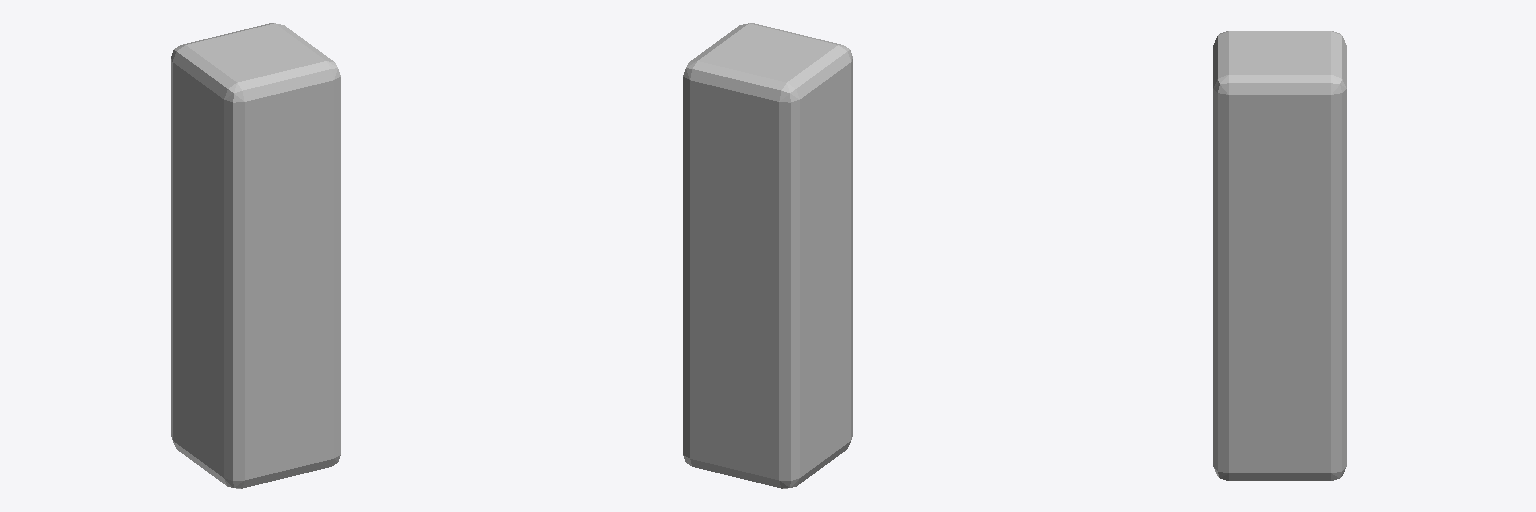
The model's file is IGNORE_Porch_Peg.obj.
The picture shows the model from 3 angles: view 1: azimuth 30°, elevation 25°; view 2: azimuth 150°, elevation 25°; view 3: azimuth 270°, elevation 25°; orthographic projection.
Parts seen in each view (by area): view 1: IGNORE_Porch_Peg.009_Cube.092; view 2: IGNORE_Porch_Peg.009_Cube.092; view 3: IGNORE_Porch_Peg.009_Cube.092.
Part boxes in pixels (x1,y1,x2,y2): IGNORE_Porch_Peg.009_Cube.092: (171,23,340,488); IGNORE_Porch_Peg.009_Cube.092: (683,23,852,488); IGNORE_Porch_Peg.009_Cube.092: (1213,31,1346,480).
Bounding box in the file's own units: 0.1755 × 0.59 × 0.1755.